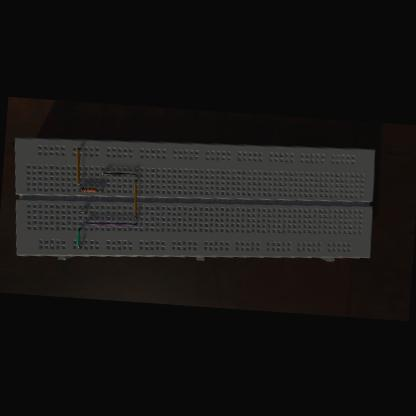breadboard: (6, 124, 376, 280)
resistor: (80, 186, 98, 192)
wire: (84, 218, 136, 226), (74, 146, 84, 184), (132, 178, 140, 218), (101, 170, 137, 176), (76, 227, 82, 247), (78, 210, 86, 212), (78, 188, 80, 190)
